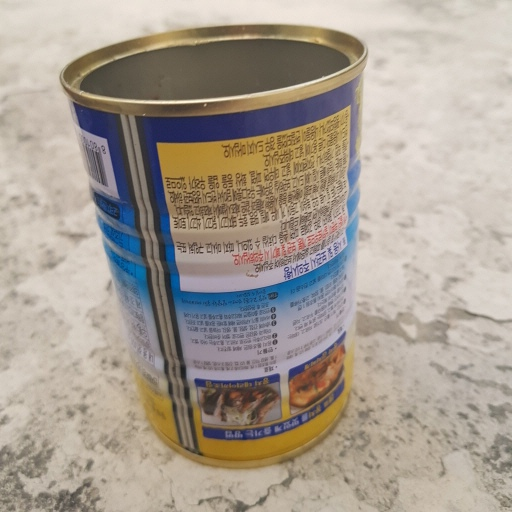Metal_1: (54, 28, 369, 465)
